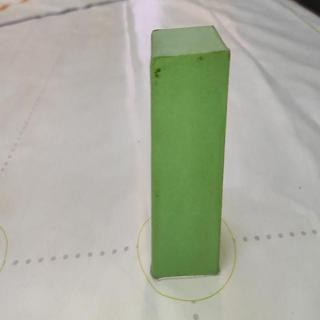greenbox: (149, 25, 230, 278)
